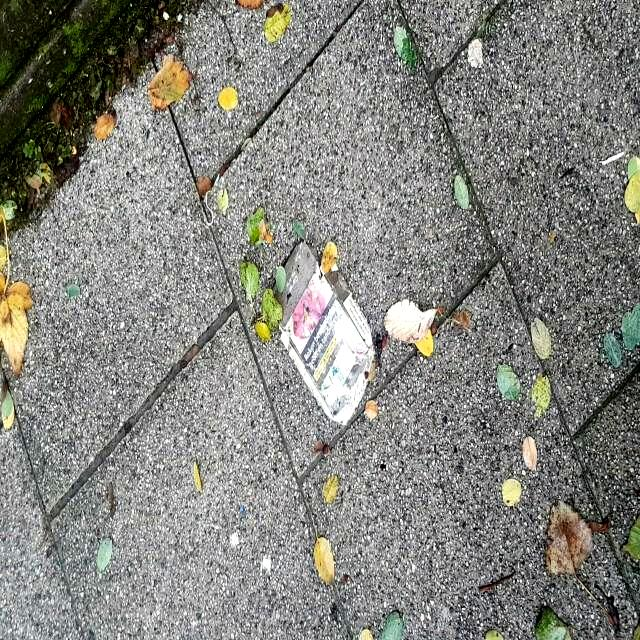Paper: (270, 236, 376, 428)
